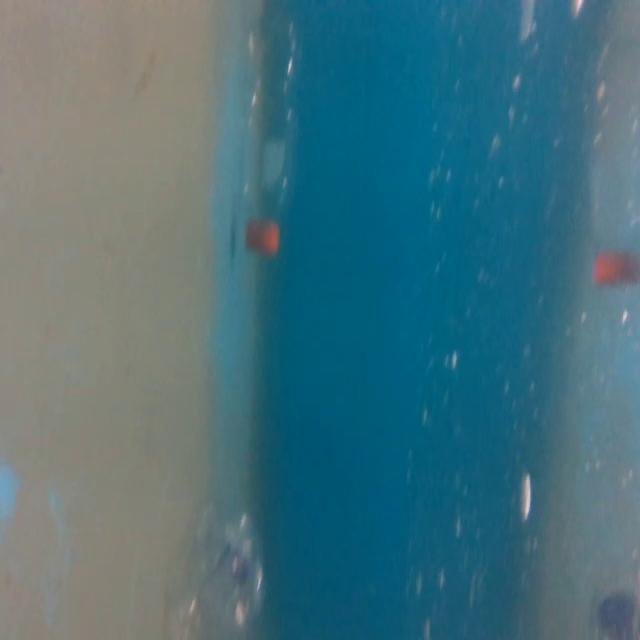plastic bags: (168, 501, 274, 640)
plastic bottle: (238, 9, 308, 260)
